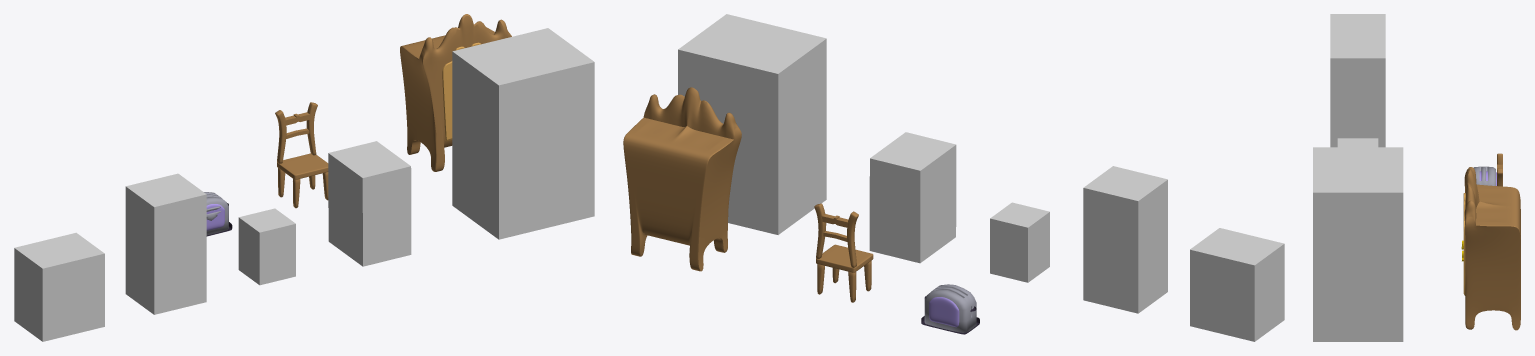
File: Format Props.fbx
3 views of the same model, side by side, from view 1: azimuth 30°, elevation 25°; view 2: azimuth 150°, elevation 25°; view 3: azimuth 270°, elevation 25° (orthographic). The views are drawn at different scales.
Parts seen in each view (by area): view 1: grand vertical, enfant, moyen vertical, fantôme, grande_armoire_high.002, petit vertical, chaise_low_poly.012, grille pain.026; view 2: grand vertical, grande_armoire_high.002, enfant, moyen vertical, fantôme, petit vertical, chaise_low_poly.012, grille pain.026; view 3: grand vertical, grande_armoire_high.002, enfant, fantôme, petit vertical, grille pain.026, chaise_low_poly.012.
Boxes of the visible parts, x1,y1,x2,y2 form: grand vertical: (452, 28, 594, 239); enfant: (125, 173, 206, 314); moyen vertical: (328, 141, 411, 266); fantôme: (14, 232, 104, 341); grande_armoire_high.002: (400, 14, 511, 171); petit vertical: (238, 208, 295, 285); chaise_low_poly.012: (275, 102, 328, 208); grille pain.026: (204, 192, 232, 236); grand vertical: (678, 14, 826, 234); grande_armoire_high.002: (623, 87, 741, 271); enfant: (1083, 166, 1167, 313); moyen vertical: (869, 132, 956, 263); fantôme: (1190, 228, 1284, 341); petit vertical: (990, 202, 1049, 282); chaise_low_poly.012: (814, 203, 873, 302); grille pain.026: (921, 284, 979, 334); grand vertical: (1313, 147, 1403, 341); grande_armoire_high.002: (1461, 167, 1520, 330); enfant: (1330, 33, 1385, 147); fantôme: (1330, 14, 1385, 33); petit vertical: (1337, 138, 1378, 147); grille pain.026: (1473, 166, 1496, 185); chaise_low_poly.012: (1497, 153, 1502, 186).
Bounding box in the file's own units: 1055 × 296 × 361.
